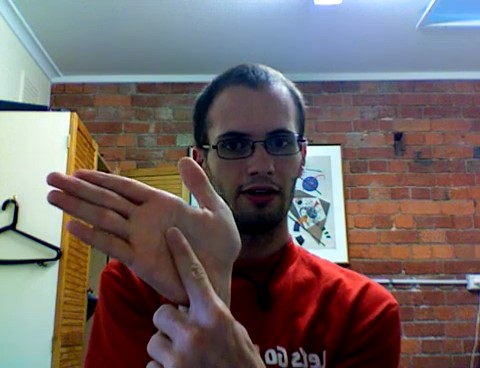L: (36, 146, 281, 368)
